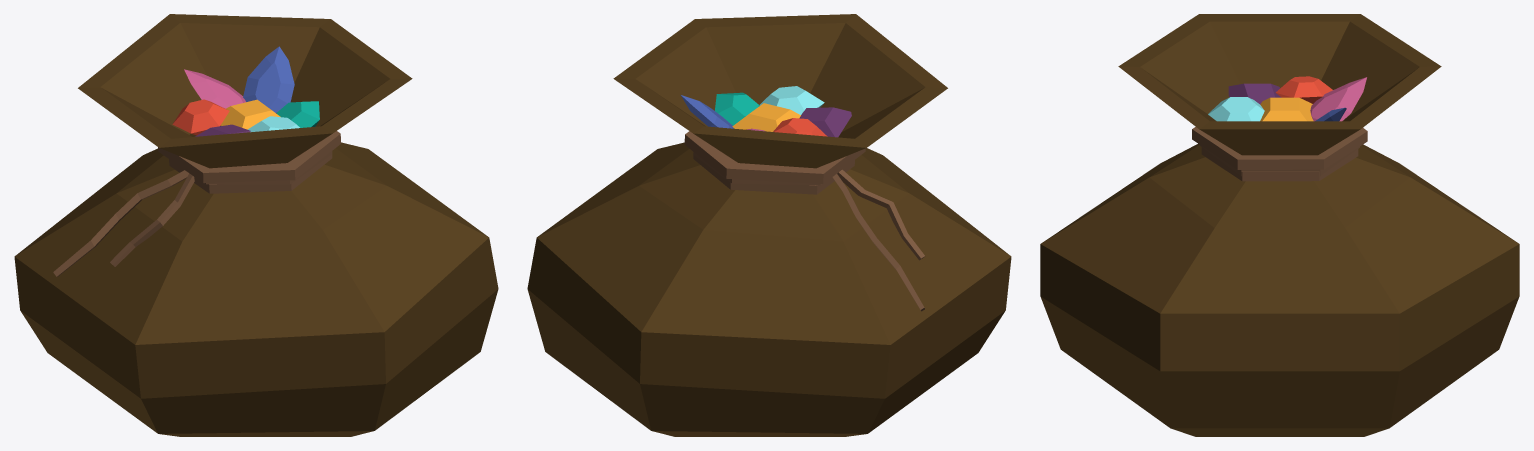
Rendered from gold3.glb.
3 views of the same model, side by side, from view 1: azimuth 30°, elevation 25°; view 2: azimuth 150°, elevation 25°; view 3: azimuth 270°, elevation 25° (orthographic).
Parts seen in each view (by area): view 1: Gempurse; view 2: Gempurse; view 3: Gempurse.
Boxes of the visible parts, x1=… form: Gempurse: x1=14, y1=14, x2=498, y2=436; Gempurse: x1=527, y1=14, x2=1011, y2=436; Gempurse: x1=1040, y1=14, x2=1519, y2=436.
Bounding box in the file's own units: 0.3697 × 0.2962 × 0.4261.
1 material, 1 textured.
